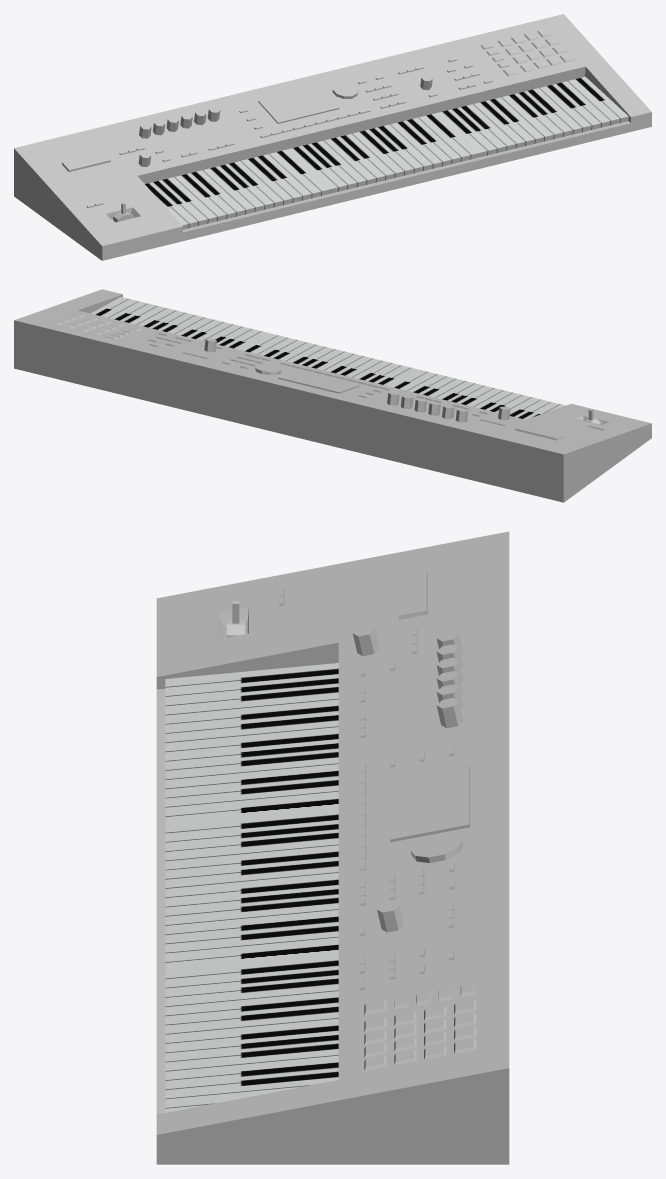
File: Synth.fbx
3 renders of one model, top to bottom at view 1: azimuth 30°, elevation 25°; view 2: azimuth 150°, elevation 25°; view 3: azimuth 270°, elevation 25°, orthographic. The views are drawn at different scales.
Visible parts, largest first — view 1: Synth, Synth Key, Synth light; view 2: Synth, Synth Key, Synth light; view 3: Synth, Synth Key, Synth light.
Part boxes in pixels (box(x1,y1,x2,y2)): Synth: box(14, 14, 651, 260); Synth Key: box(145, 76, 628, 229); Synth light: box(86, 29, 566, 207); Synth: box(14, 289, 651, 502); Synth Key: box(91, 297, 565, 419); Synth light: box(47, 315, 604, 430); Synth: box(156, 531, 509, 1164); Synth Key: box(165, 663, 338, 1112); Synth light: box(278, 588, 476, 1065).
Bounding box in the file's own units: 108 × 10.11 × 30.
